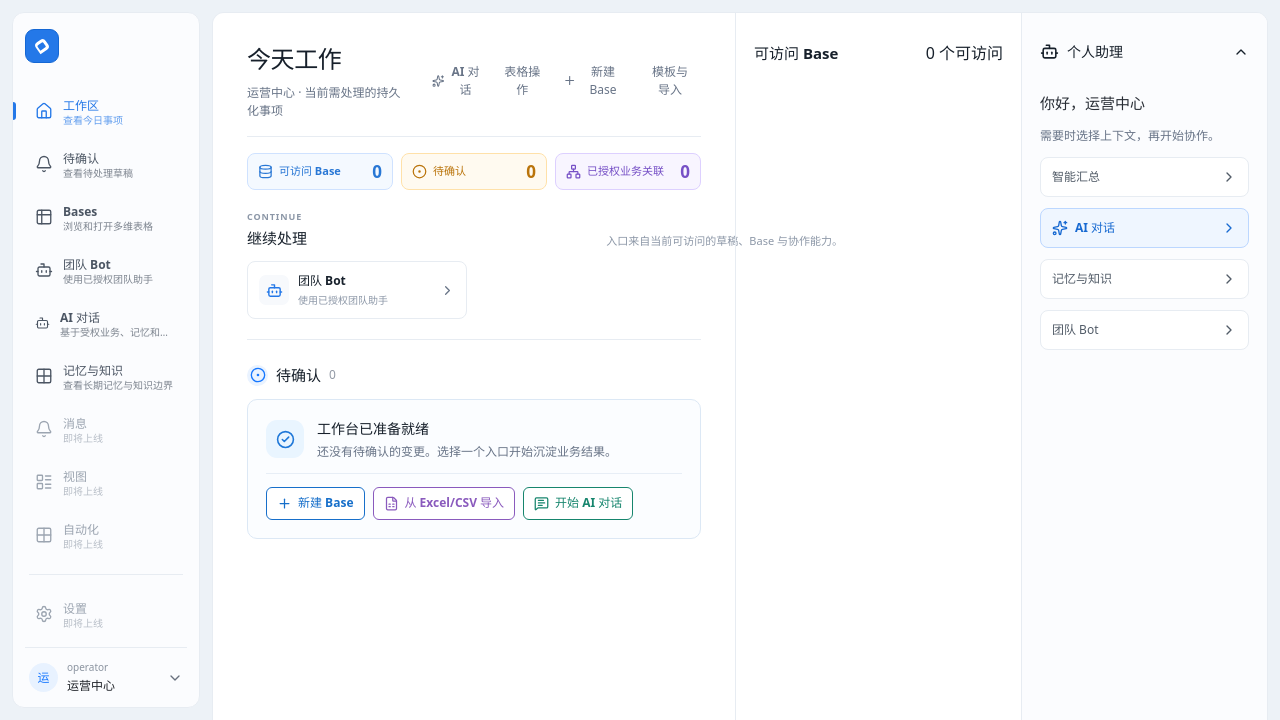
Scenario: renders a safe empty canvas when a receipt resource is absent from fresh authorized lists
Click the button "新建 Base" in the row of "· 当前需处理的持久化事项" at (594, 80), box [556,56,631,106]
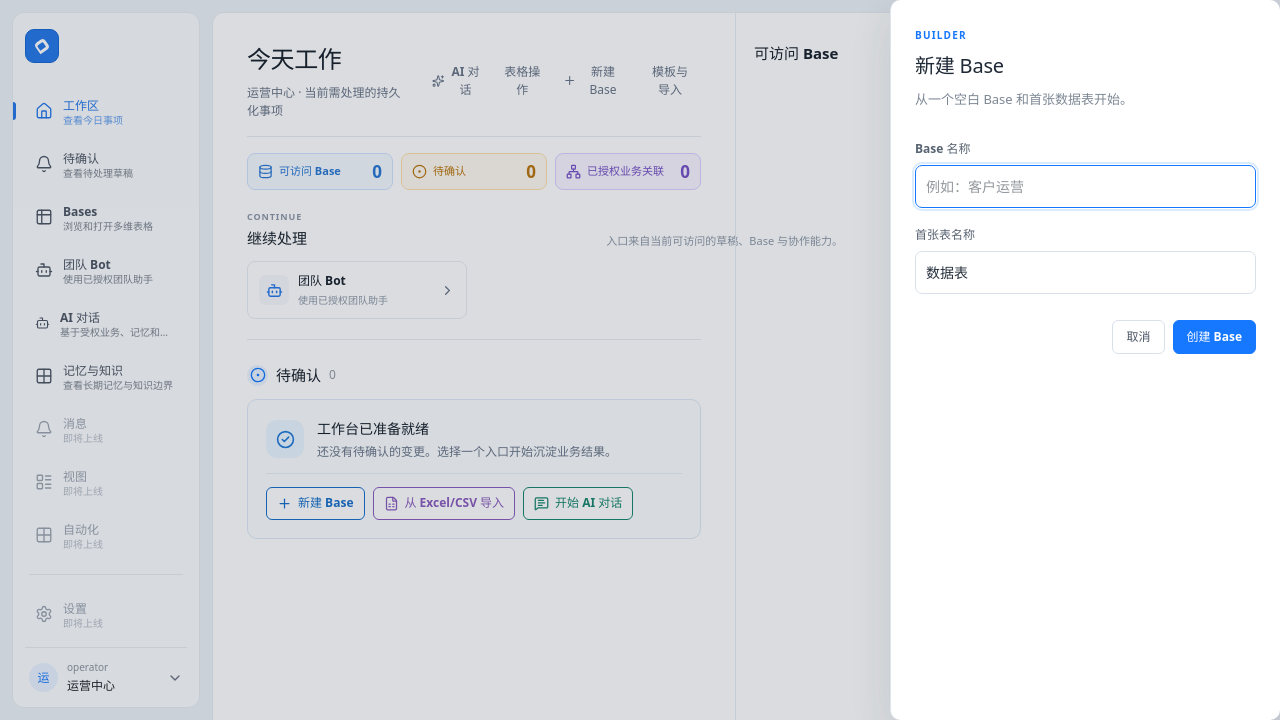
Type "客户运营" into the field labelled "Base 名称" at (1086, 186), box [915,165,1256,208]
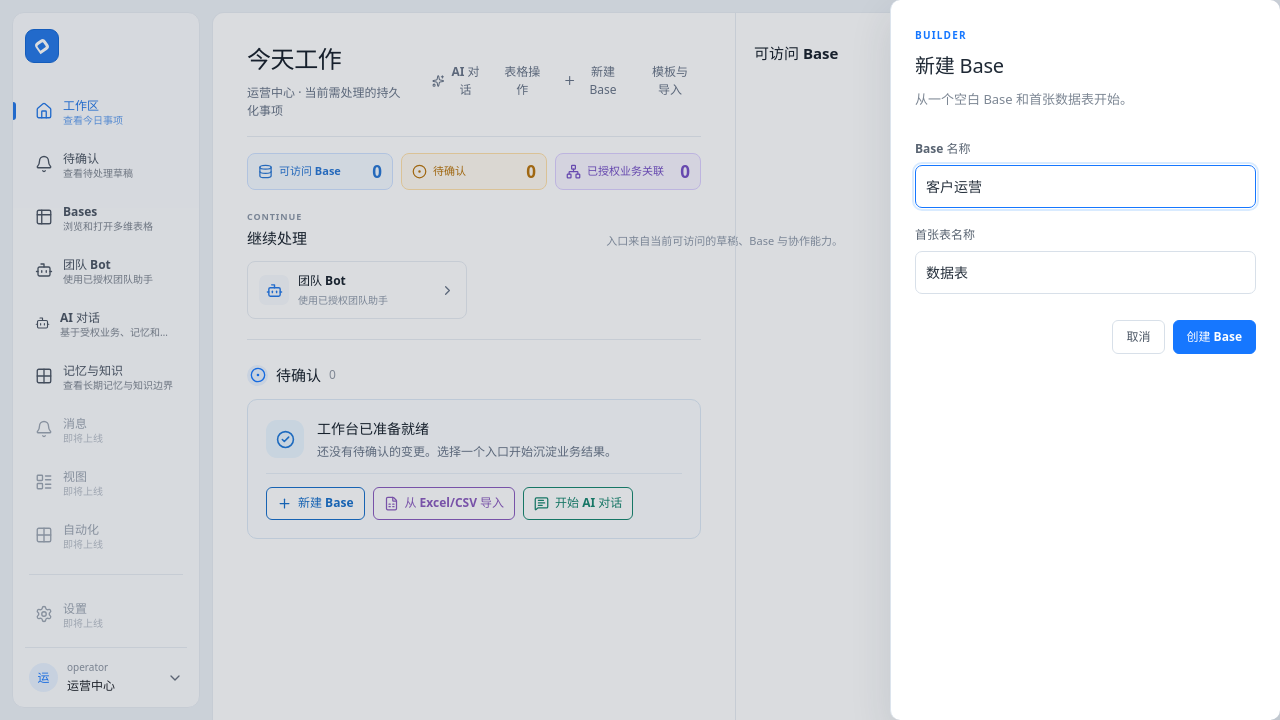
Click the button "创建 Base" at (1214, 337), box [1172,320,1256,354]
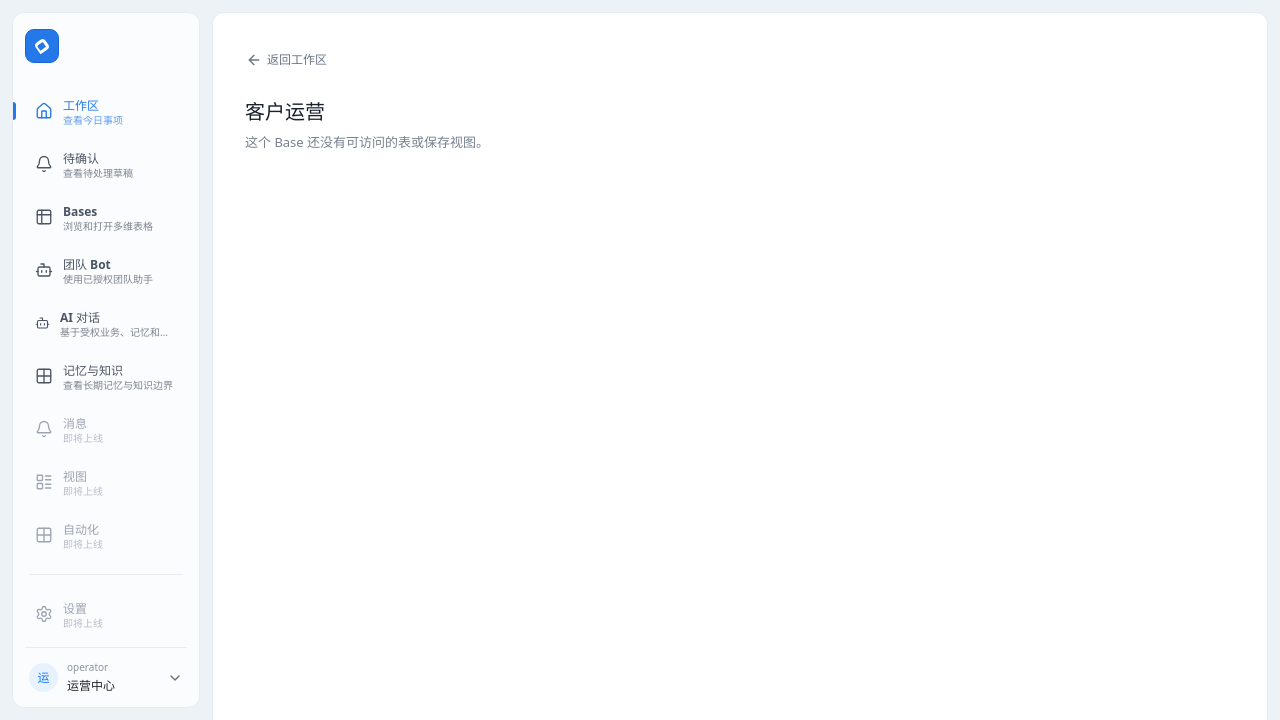
Now the text "这个 Base 还没有可访问的表或保存视图。" is shown, box [245,133,489,151]
